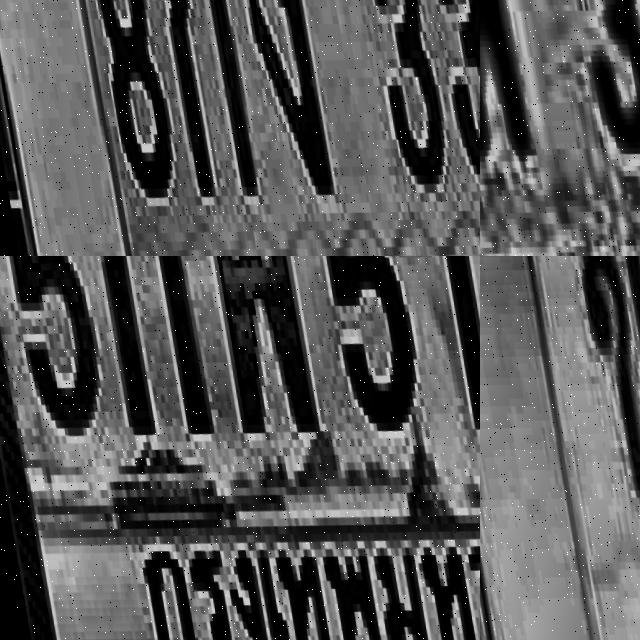license-plate: (0, 256, 480, 640), (0, 0, 480, 256), (480, 256, 640, 640), (480, 0, 640, 256)
